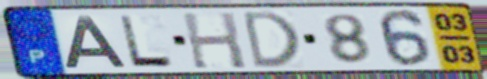6: (376, 8, 434, 68)
8: (321, 12, 374, 65)
A: (62, 14, 129, 70)
D: (240, 9, 302, 71)
H: (179, 10, 250, 71)
L: (116, 13, 178, 69)
